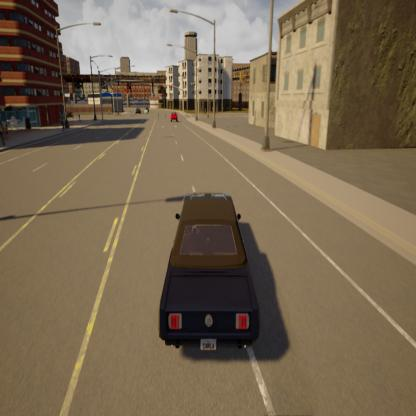Cars: (156, 193, 260, 358), (170, 111, 179, 125)
